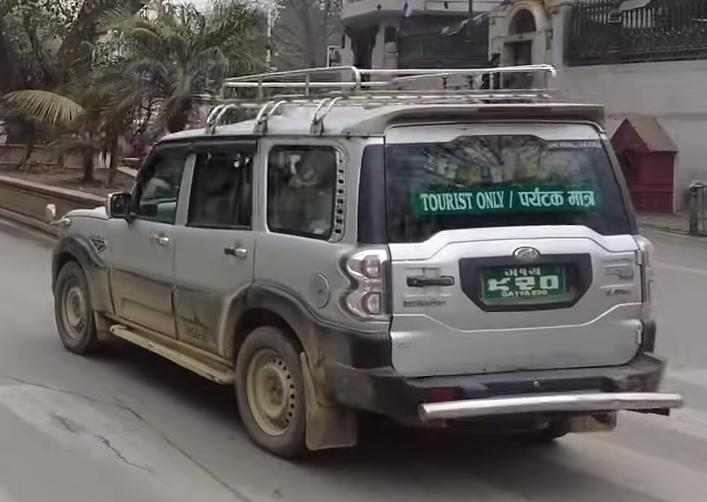SUV: (45, 62, 684, 467)
